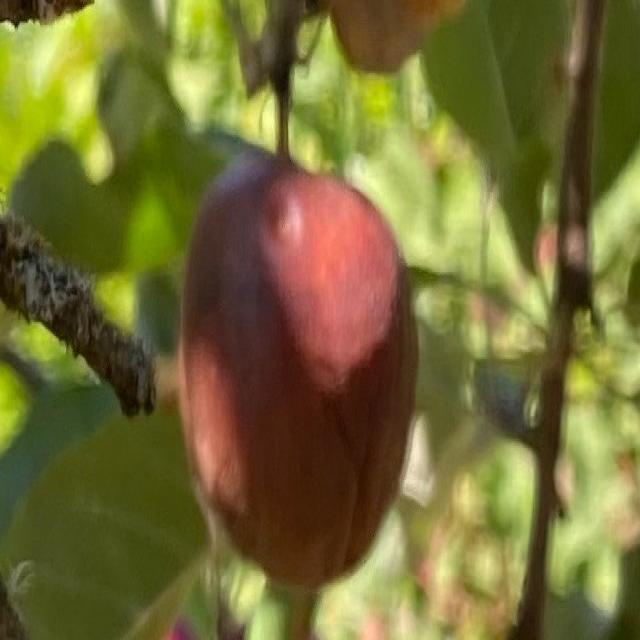100-_ripeness: (179, 151, 422, 585)
